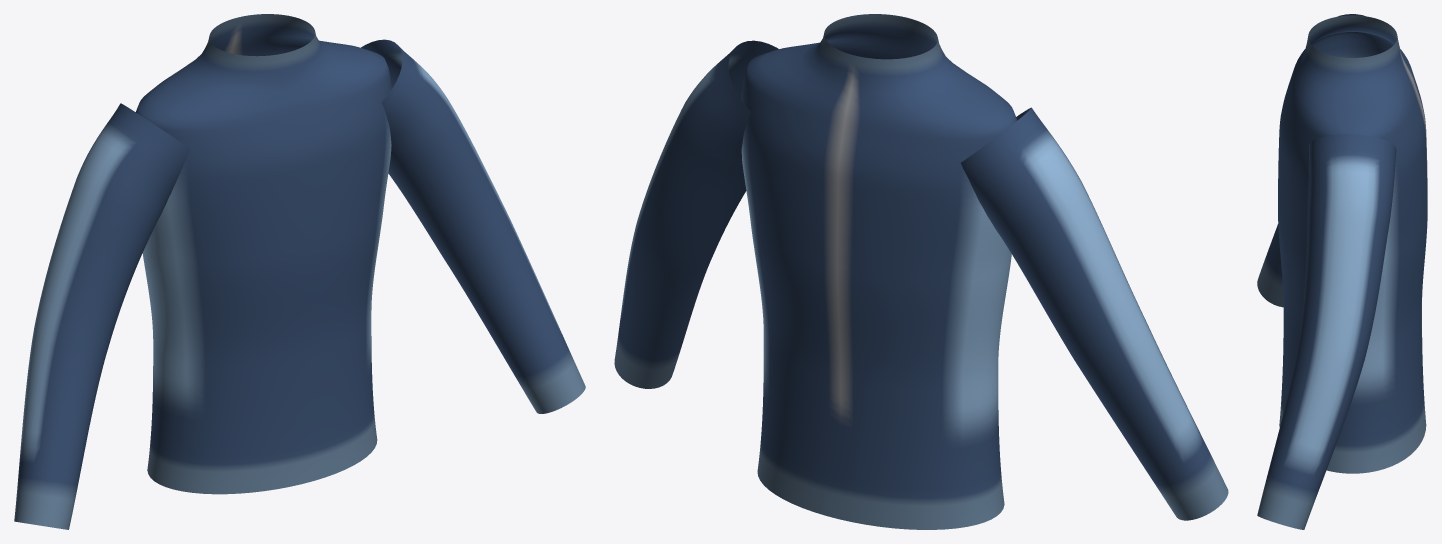
Rendered from top-uv.glb.
The picture shows the model from 3 angles, left to right: view 1: azimuth 30°, elevation 25°; view 2: azimuth 150°, elevation 25°; view 3: azimuth 270°, elevation 25°; orthographic projection. The views are drawn at different scales.
Visible parts, largest first — view 1: torse, bras-1, bras1; view 2: torse, bras-1, bras1; view 3: torse, bras1, bras-1.
Part boxes in pixels (<box>): torse: <box>136,14,391,494</box>; bras-1: <box>14,103,189,529</box>; bras1: <box>361,39,585,413</box>; torse: <box>741,14,1017,529</box>; bras-1: <box>961,107,1228,520</box>; bras1: <box>614,40,778,388</box>; torse: <box>1278,15,1427,473</box>; bras1: <box>1257,134,1396,529</box>; bras-1: <box>1257,14,1365,307</box>.
Size of the model in its own units: 0.8376 by 0.595 by 0.2367.
